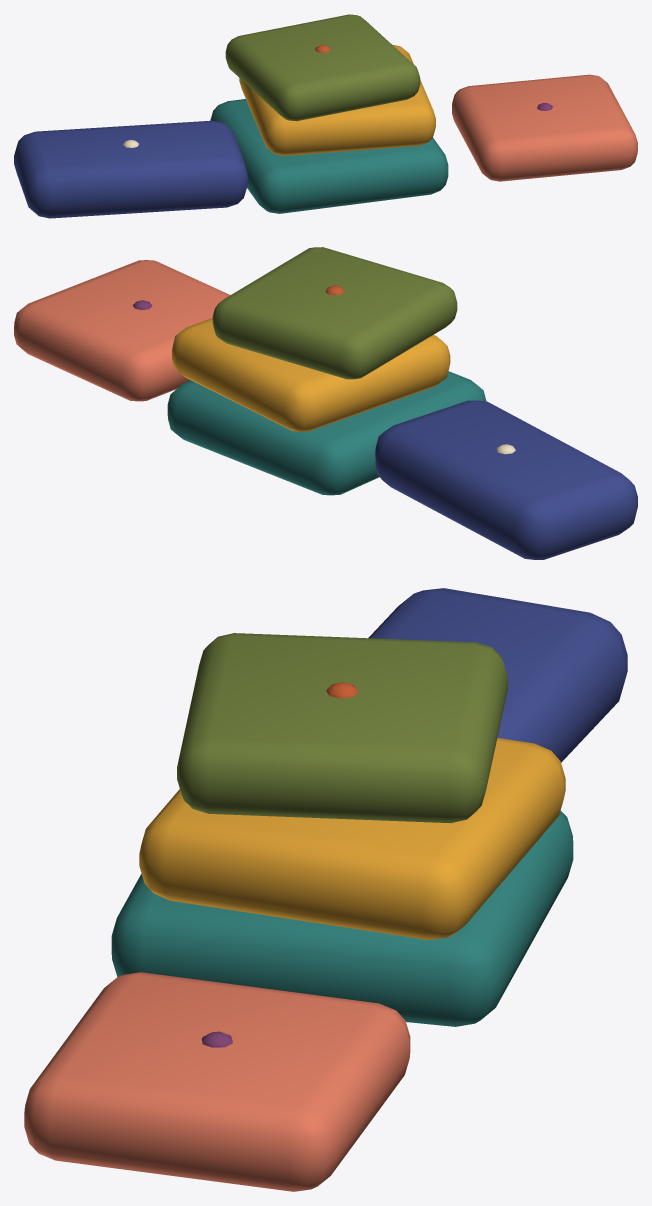
The model's file is deco_cushions_pile.fbx.
3 renders of one model, top to bottom at view 1: azimuth 30°, elevation 25°; view 2: azimuth 150°, elevation 25°; view 3: azimuth 270°, elevation 25°, orthographic. The views are drawn at different scales.
Visible parts, largest first — view 1: Cushions_Pile_Cushion5, Cushions_Pile_Cushion4, Cushions_Pile_Cushion3, Cushions_Pile_Cushion1, Cushions_Pile_Cushion2; view 2: Cushions_Pile_Cushion5, Cushions_Pile_Cushion3, Cushions_Pile_Cushion4, Cushions_Pile_Cushion1, Cushions_Pile_Cushion2; view 3: Cushions_Pile_Cushion4, Cushions_Pile_Cushion3, Cushions_Pile_Cushion2, Cushions_Pile_Cushion1, Cushions_Pile_Cushion5.
Part boxes in pixels (left/top/right/bottom): Cushions_Pile_Cushion5: left=14, top=120, right=248, bottom=218; Cushions_Pile_Cushion4: left=452, top=74, right=637, bottom=181; Cushions_Pile_Cushion3: left=225, top=14, right=420, bottom=121; Cushions_Pile_Cushion1: left=210, top=99, right=448, bottom=213; Cushions_Pile_Cushion2: left=239, top=45, right=435, bottom=155; Cushions_Pile_Cushion5: left=375, top=400, right=637, bottom=559; Cushions_Pile_Cushion3: left=212, top=247, right=457, bottom=379; Cushions_Pile_Cushion4: left=14, top=260, right=230, bottom=401; Cushions_Pile_Cushion1: left=167, top=371, right=486, bottom=495; Cushions_Pile_Cushion2: left=172, top=318, right=450, bottom=431; Cushions_Pile_Cushion4: left=24, top=972, right=410, bottom=1191; Cushions_Pile_Cushion3: left=177, top=633, right=507, bottom=823; Cushions_Pile_Cushion2: left=139, top=738, right=565, bottom=939; Cushions_Pile_Cushion1: left=111, top=810, right=573, bottom=1026; Cushions_Pile_Cushion5: left=368, top=588, right=627, bottom=762.
Size of the model in its own units: 252 by 55.6 by 121.
